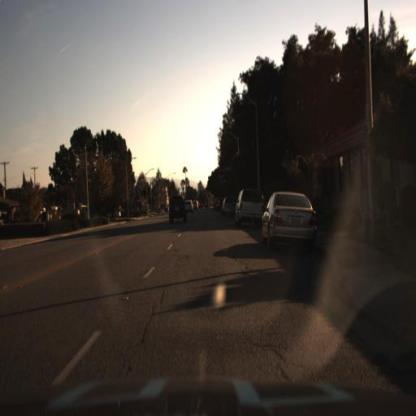car: (259, 190, 319, 244), (234, 188, 267, 228), (167, 192, 187, 225), (223, 196, 236, 221)
